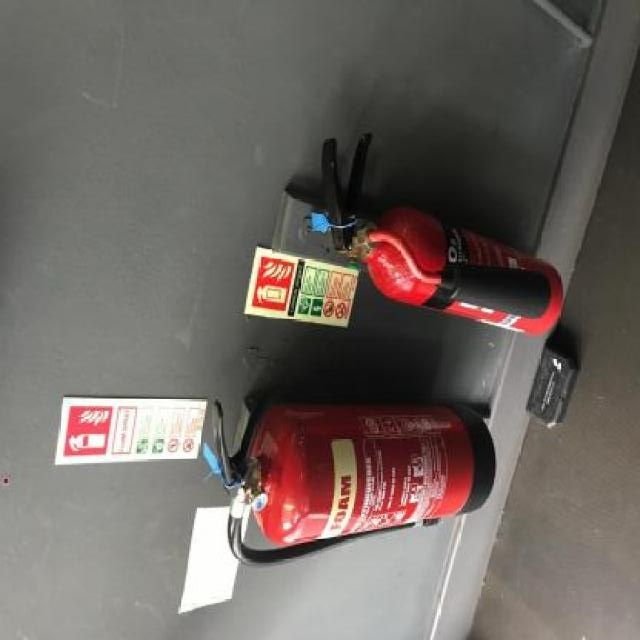fire extinguisher: (267, 148, 564, 341), (221, 406, 493, 571)
